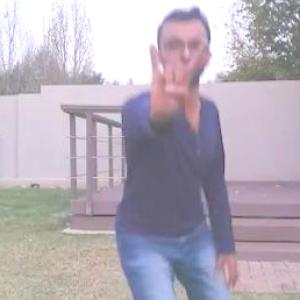takeoff-hand: (136, 33, 211, 114)
